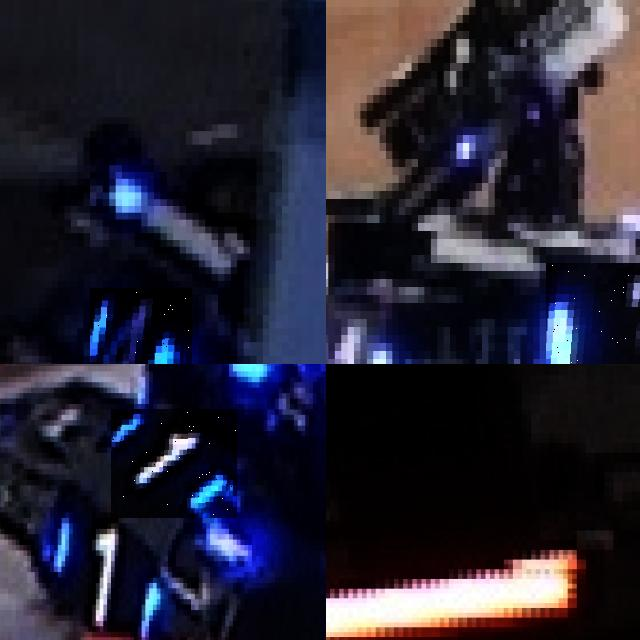B1: (46, 507, 164, 640), (111, 409, 237, 518)
B3: (546, 263, 640, 364)
B4: (89, 287, 192, 364), (326, 295, 405, 364)
